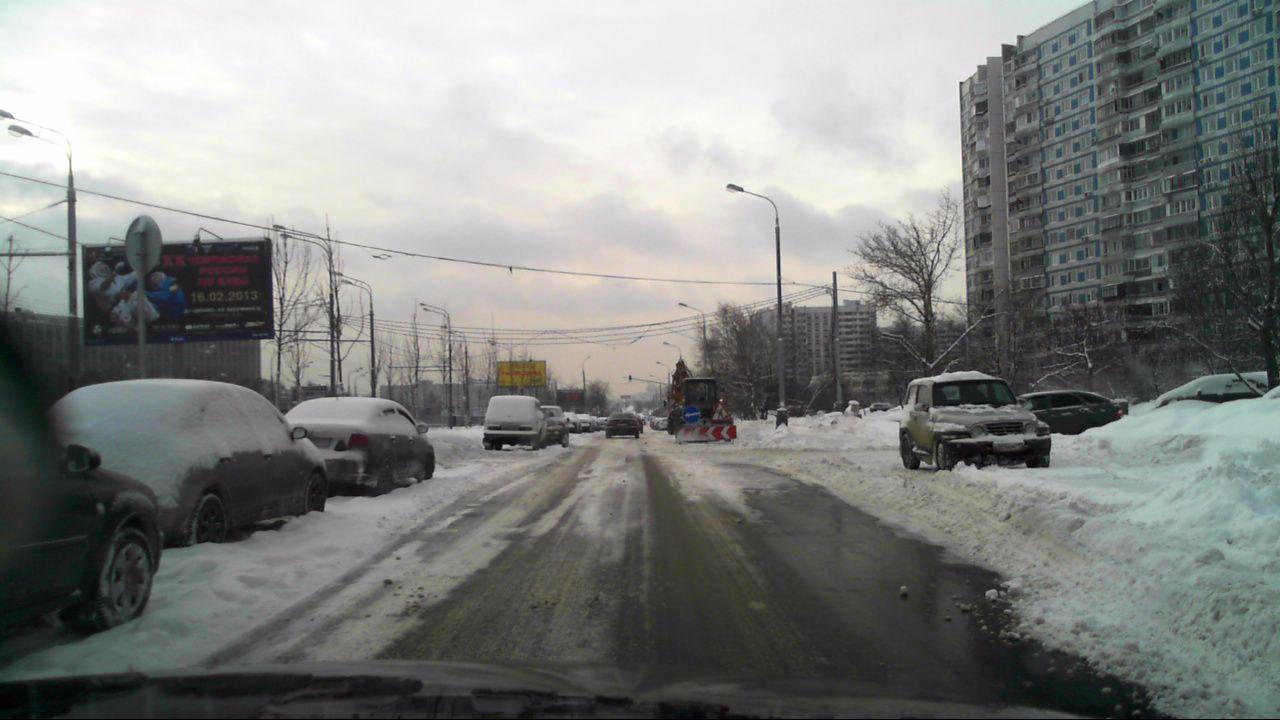1_25: (712, 401, 731, 421)
4_2_2: (683, 404, 700, 424)
8_22_2: (676, 426, 737, 442)
